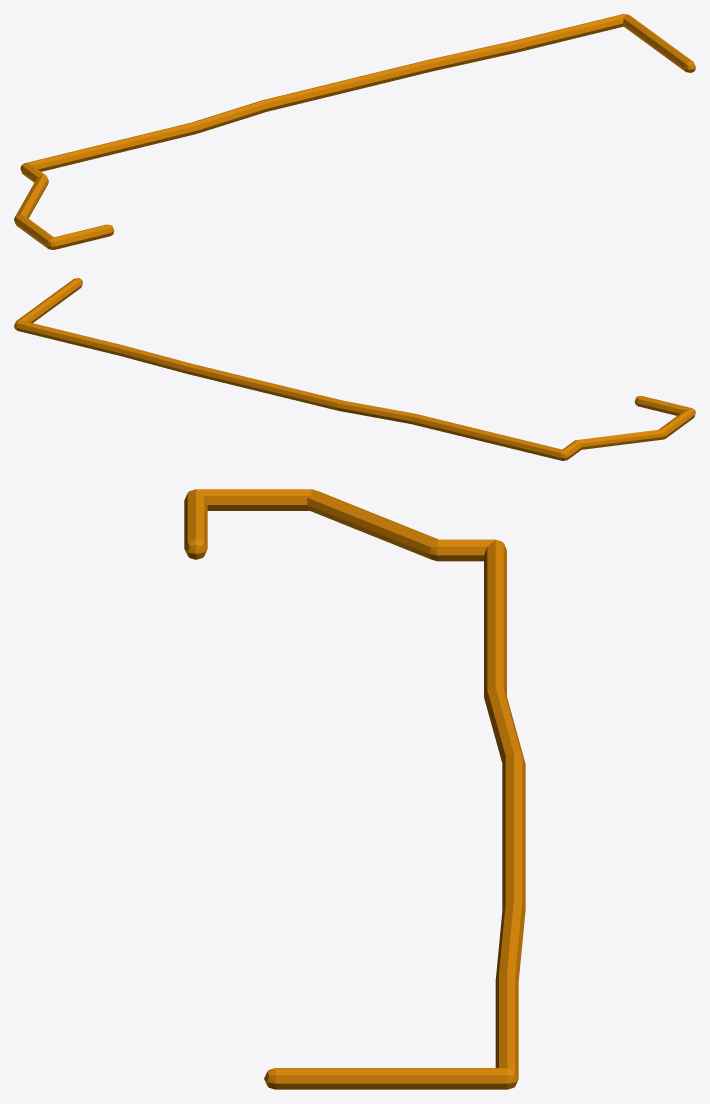
3 views of the same model, one above another, from view 1: azimuth 30°, elevation 25°; view 2: azimuth 150°, elevation 25°; view 3: azimuth 270°, elevation 25° (orthographic). The views are drawn at different scales.
Size of the model in its own units: 1202 by 20 by 294.
